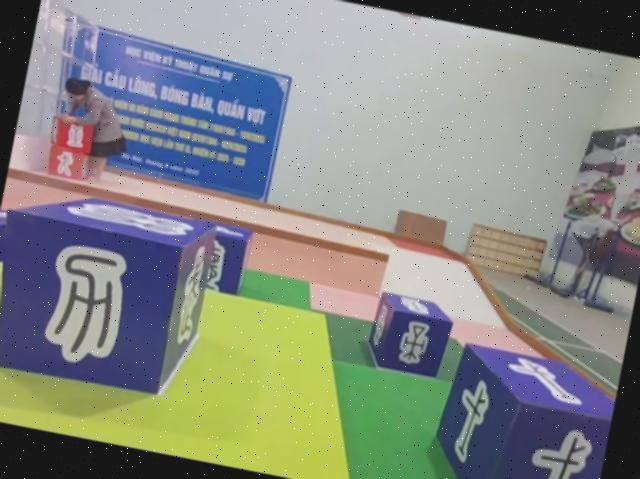R2 Fake Blue: (0, 182, 218, 403)
R2 Real Blue: (419, 339, 620, 479), (363, 289, 456, 381)
